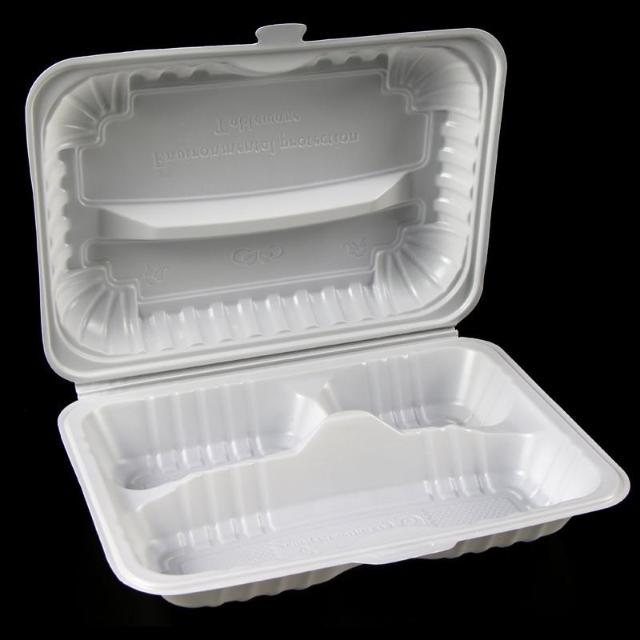plastic_box: (26, 18, 634, 610)
